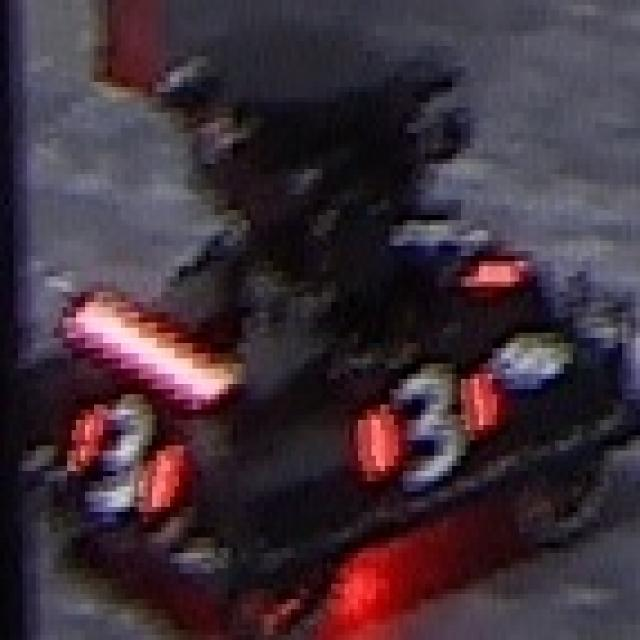R3: (358, 348, 510, 502), (67, 389, 188, 533)
